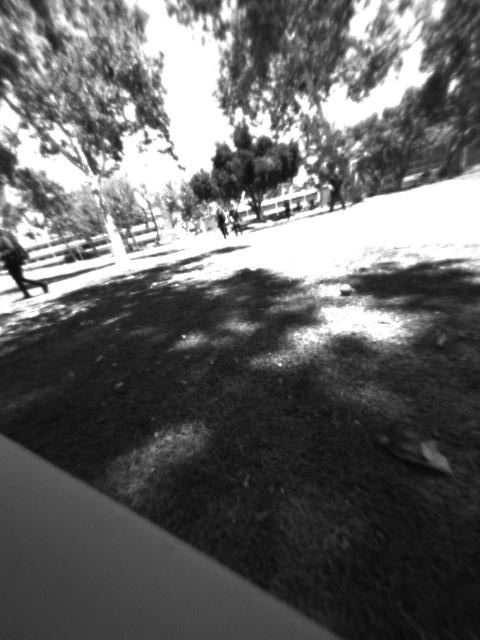dogtoy: (330, 275, 364, 300)
